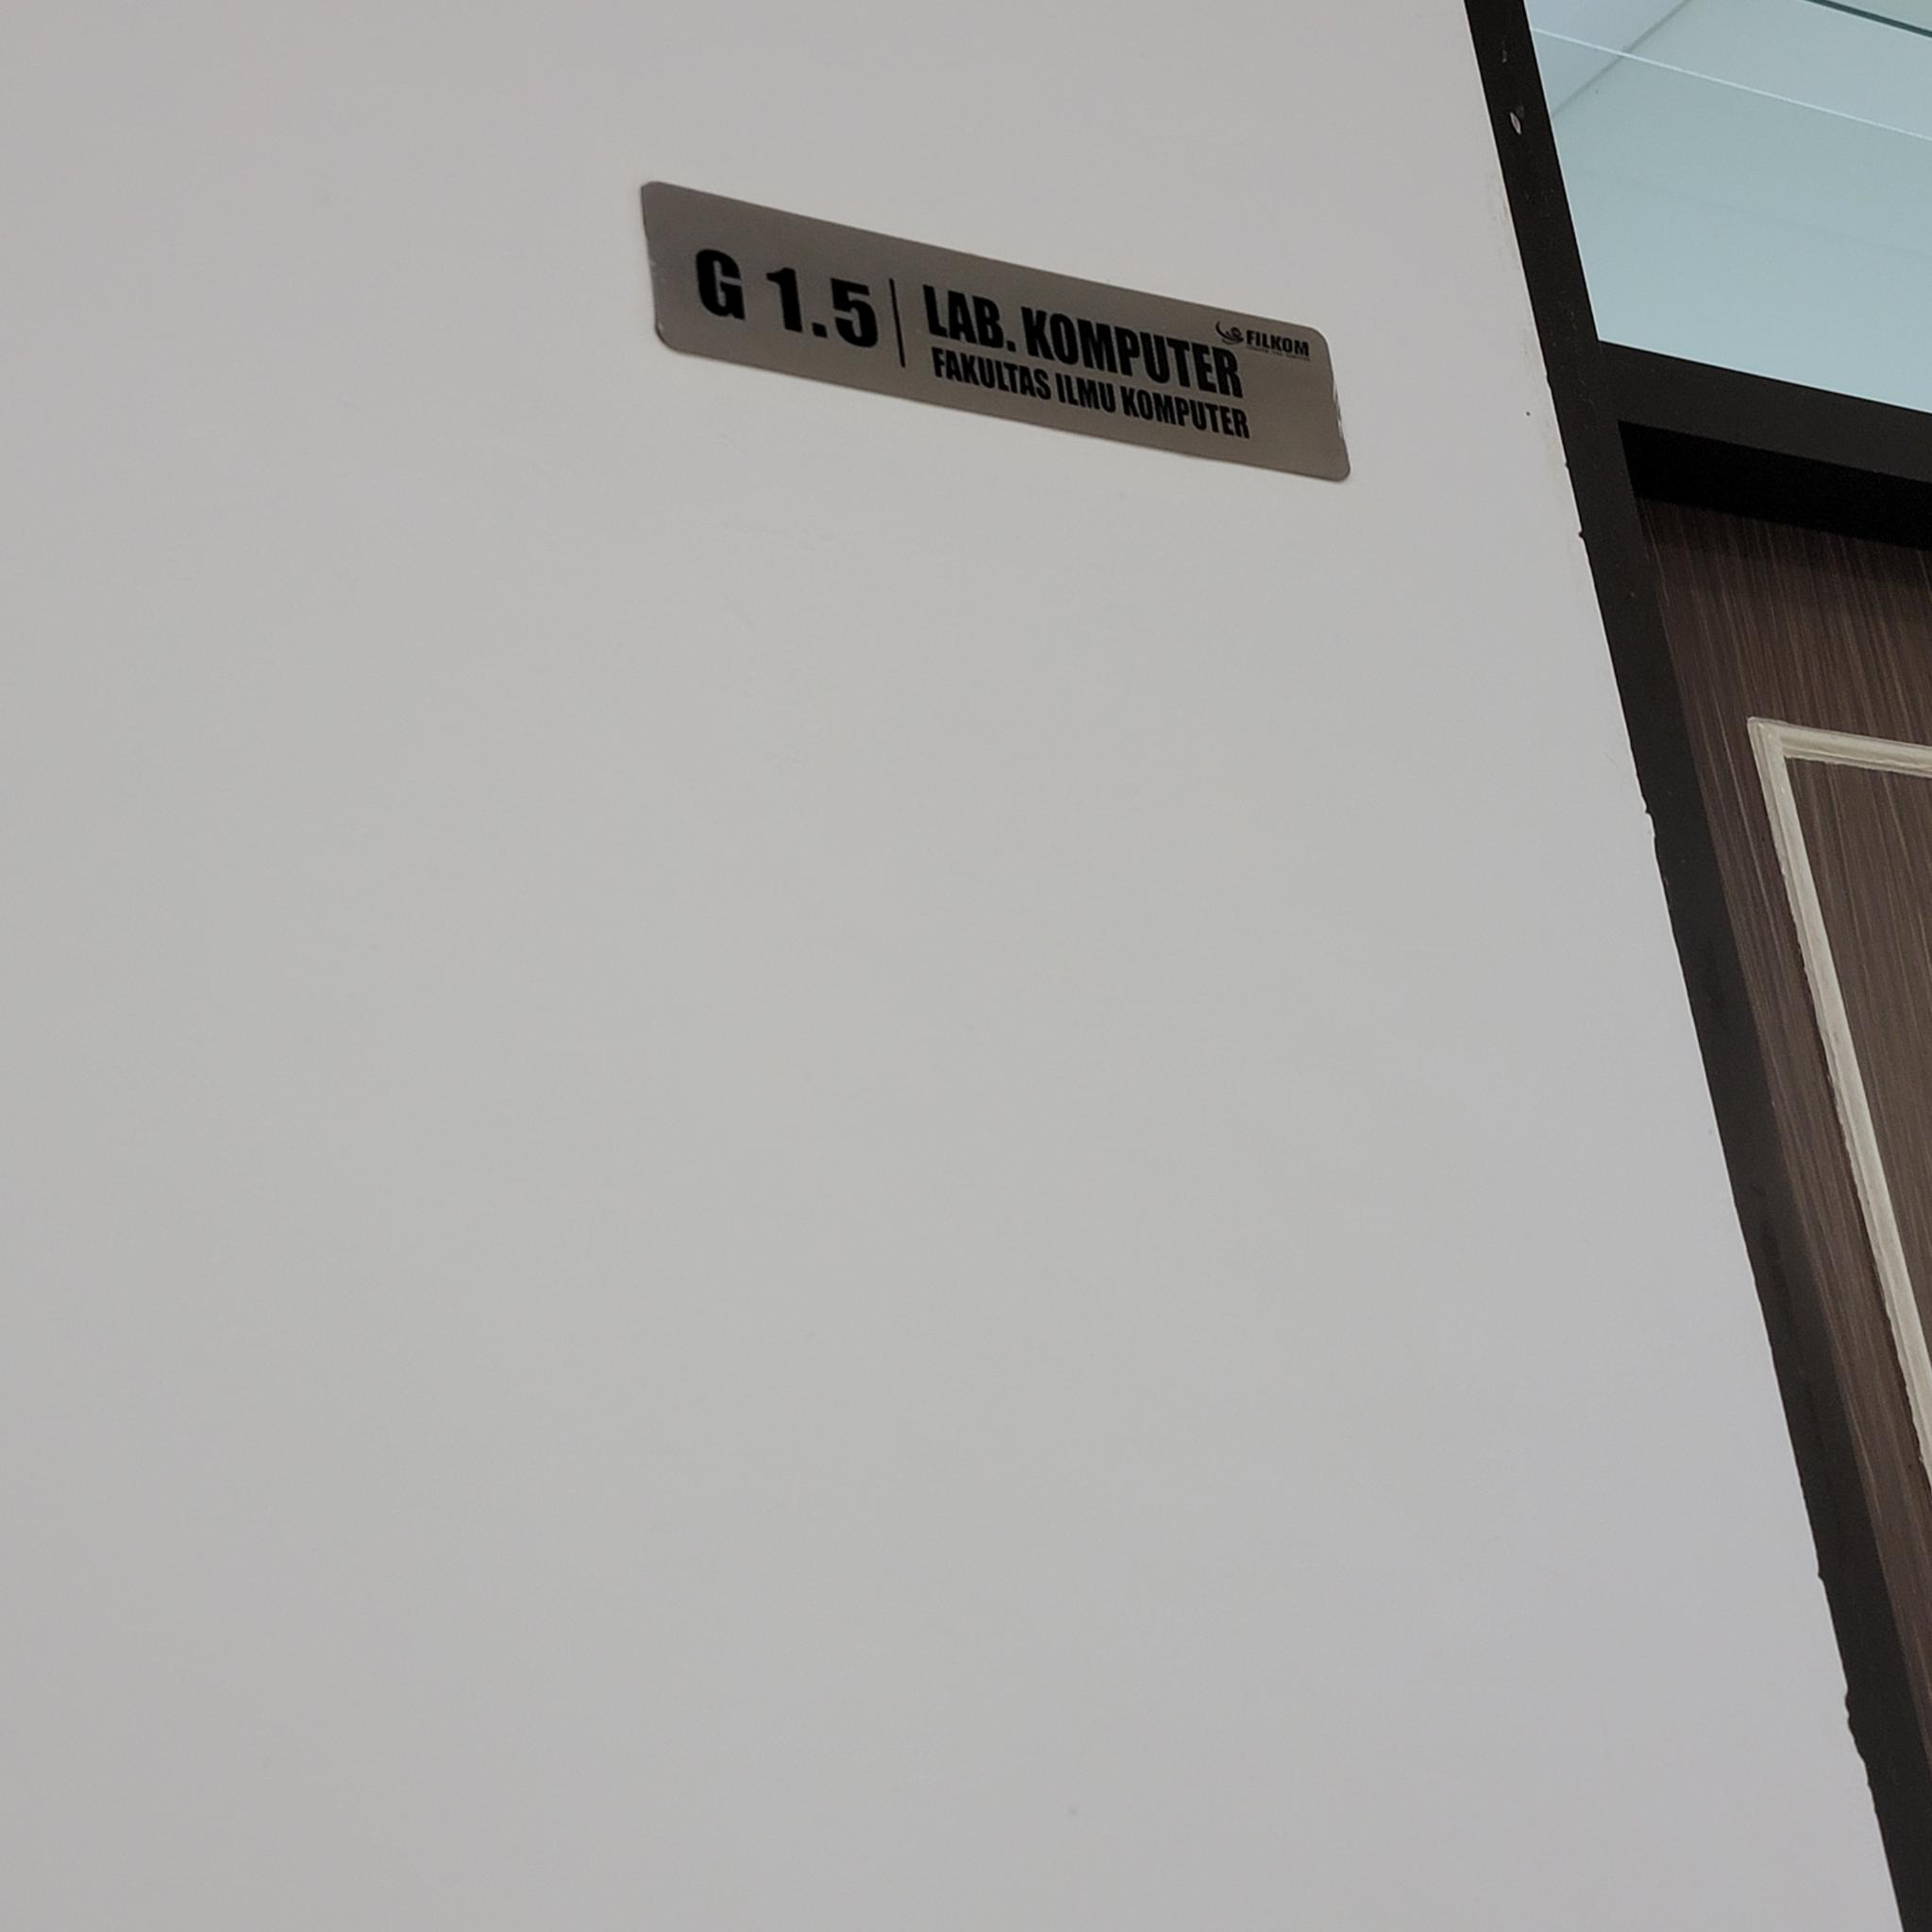plate: (640, 177, 1352, 485)
